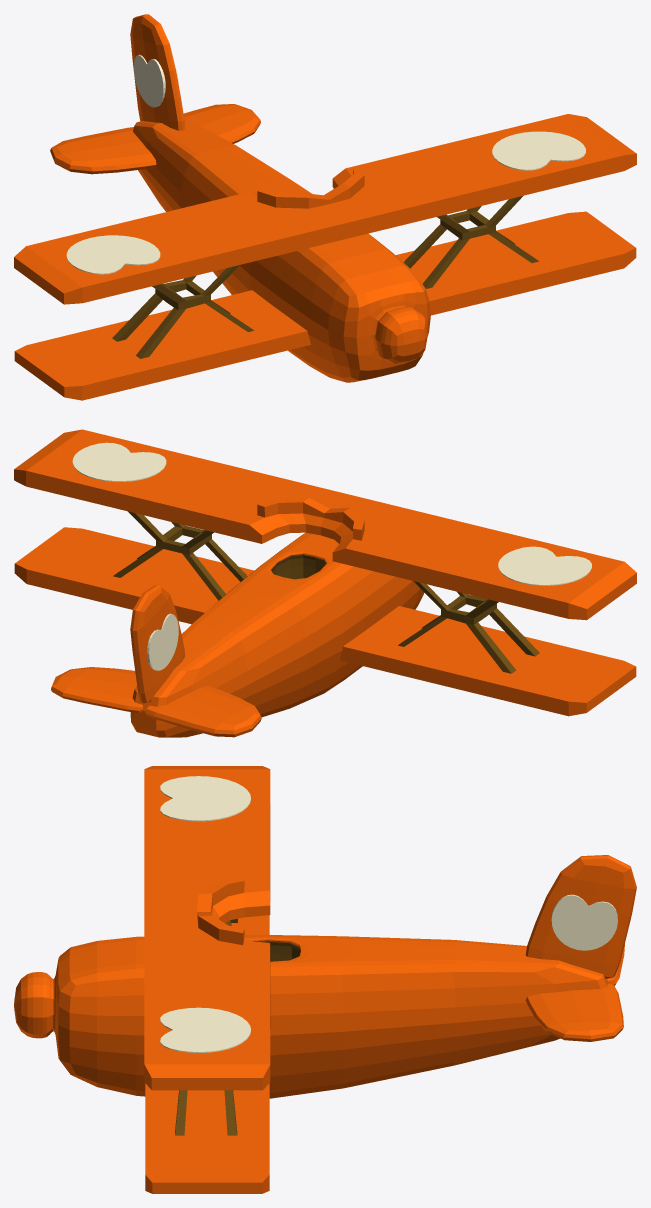
Rendered from love_plane.fbx.
3 views of the same model, one above another, from view 1: azimuth 30°, elevation 25°; view 2: azimuth 150°, elevation 25°; view 3: azimuth 270°, elevation 25° (orthographic). The views are drawn at different scales.
Parts seen in each view (by area): view 1: Cube.003; view 2: Cube.003; view 3: Cube.003.
Part boxes in pixels (x1,y1,x2,y2): Cube.003: (14,14,636,400); Cube.003: (14,429,636,737); Cube.003: (14,766,636,1193).
Bounding box in the file's own units: 498 × 203 × 590.
